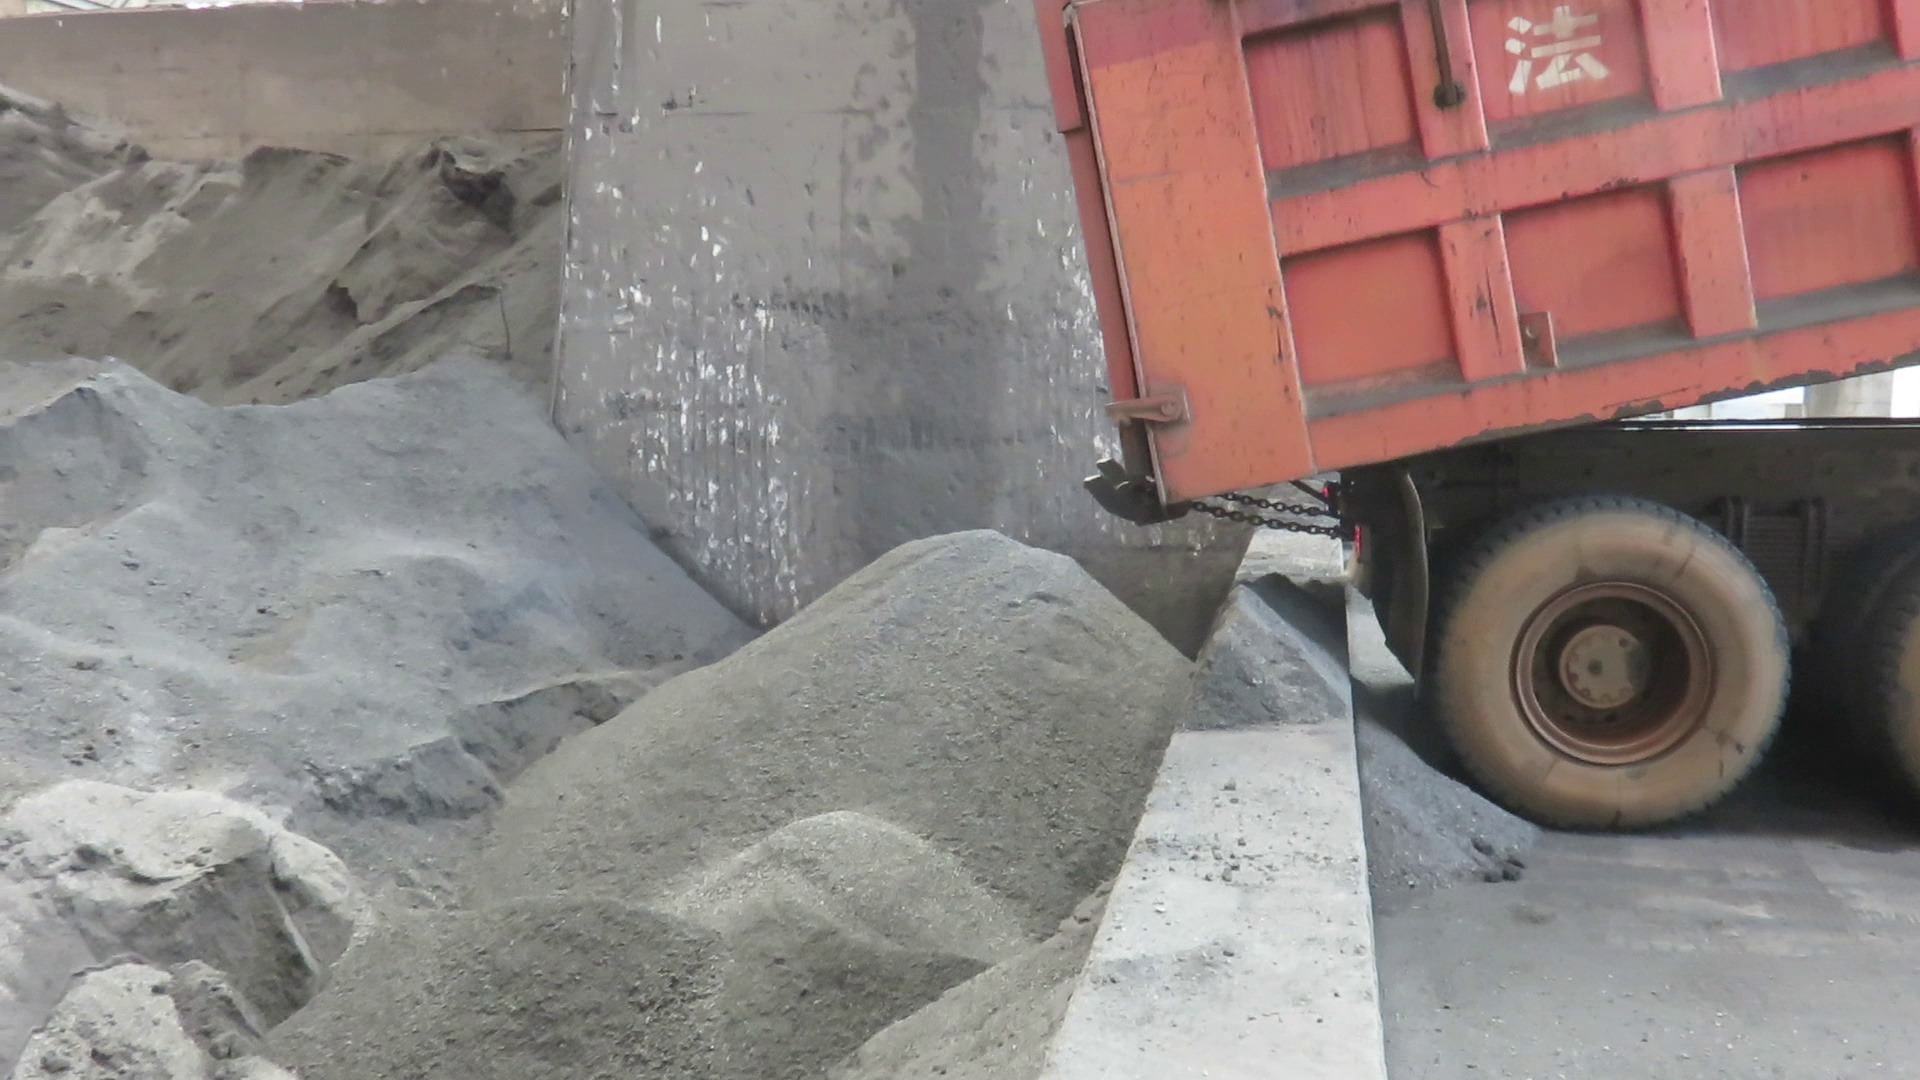truck: (1026, 0, 1920, 851)
